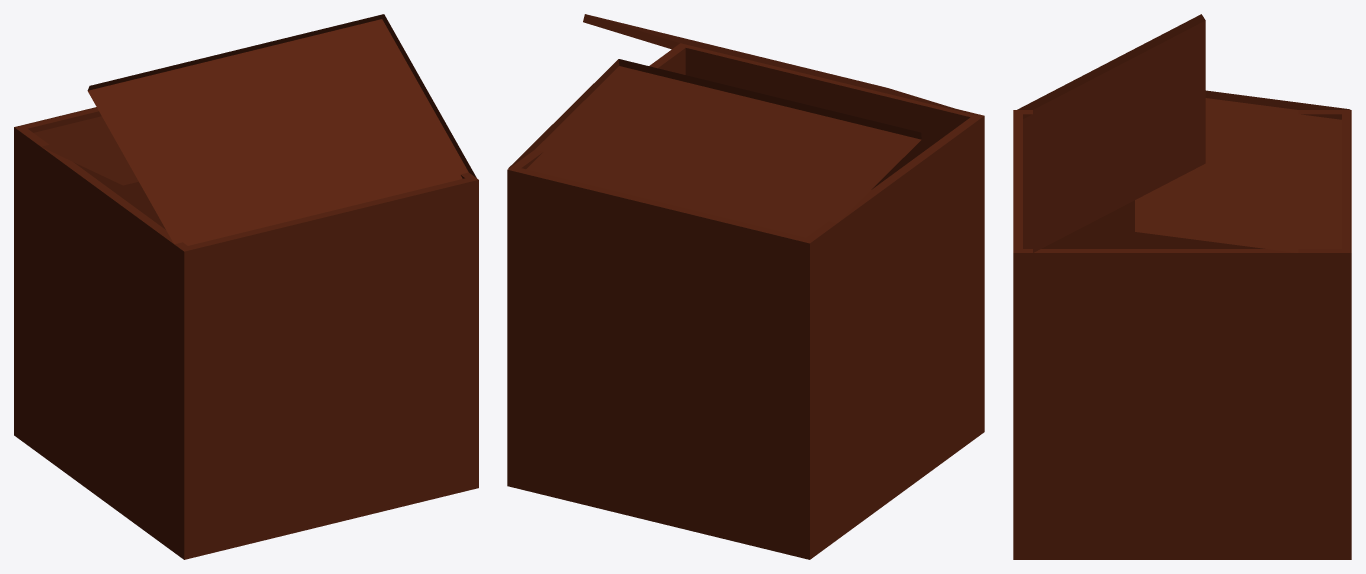
The model's file is boc.fbx.
The picture shows the model from 3 angles, left to right: view 1: azimuth 30°, elevation 25°; view 2: azimuth 150°, elevation 25°; view 3: azimuth 270°, elevation 25°; orthographic projection. The views are drawn at different scales.
Visible parts, largest first — view 1: Cube; view 2: Cube; view 3: Cube.
Part boxes in pixels (<box>): Cube: <box>14,14,478,559</box>; Cube: <box>507,14,984,559</box>; Cube: <box>1013,14,1351,559</box>.
Size of the model in its own units: 200 by 263 by 200.
